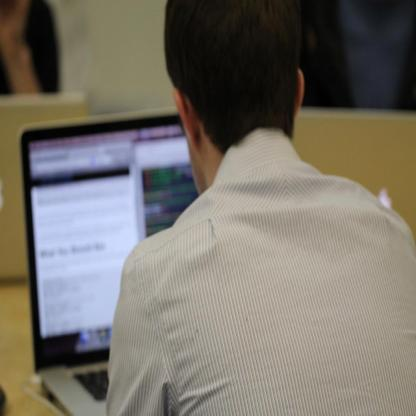board: (0, 113, 201, 416)
